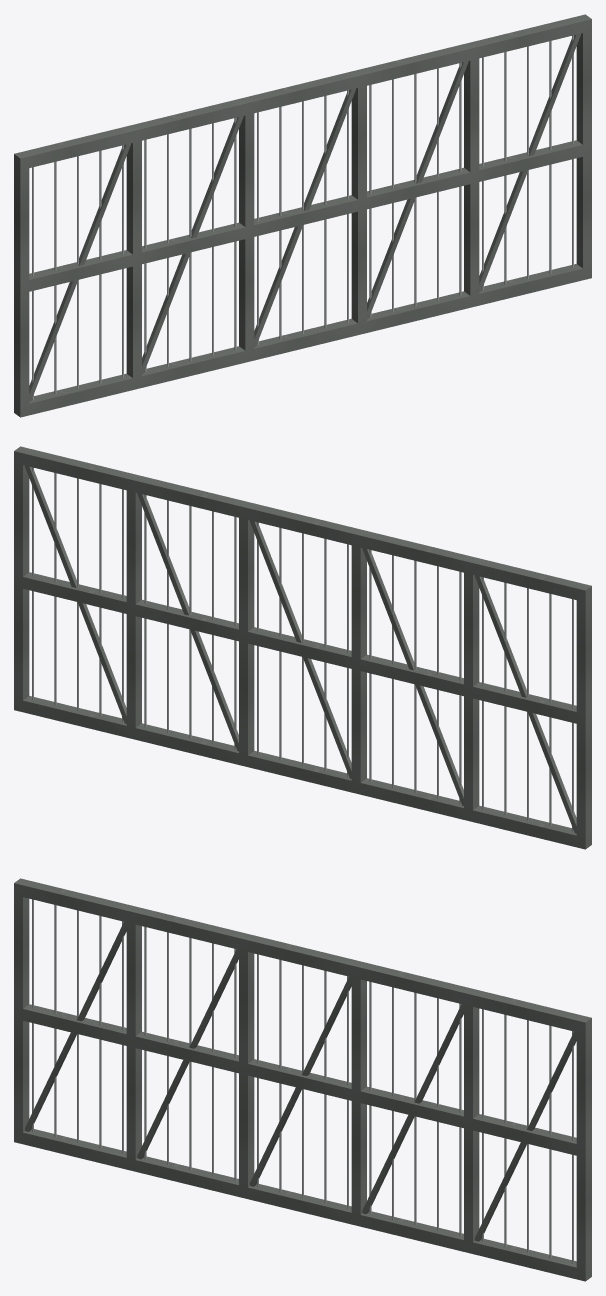
The model's file is gate_leaf.glb.
3 renders of one model, top to bottom at view 1: azimuth 30°, elevation 25°; view 2: azimuth 150°, elevation 25°; view 3: azimuth 330°, elevation 25°, orthographic.
Parts seen in each view (by area): view 1: gate_leaf; view 2: gate_leaf; view 3: gate_leaf.
Part boxes in pixels (box(x1,y1,x2,y2)): gate_leaf: box(14, 14, 591, 417); gate_leaf: box(14, 446, 591, 849); gate_leaf: box(14, 878, 591, 1281).
Bounding box in the file's own units: 5.08 × 2.2 × 0.1.
Materials: 2 (1 with a texture image).
